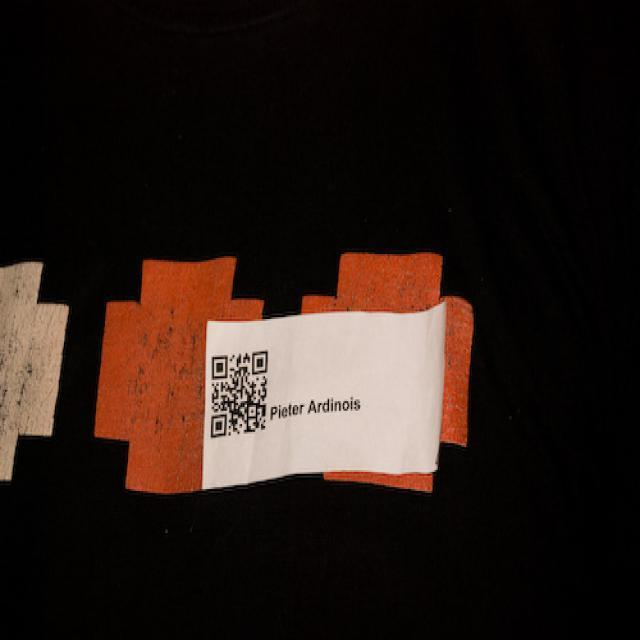qrcode: (212, 351, 267, 437)
